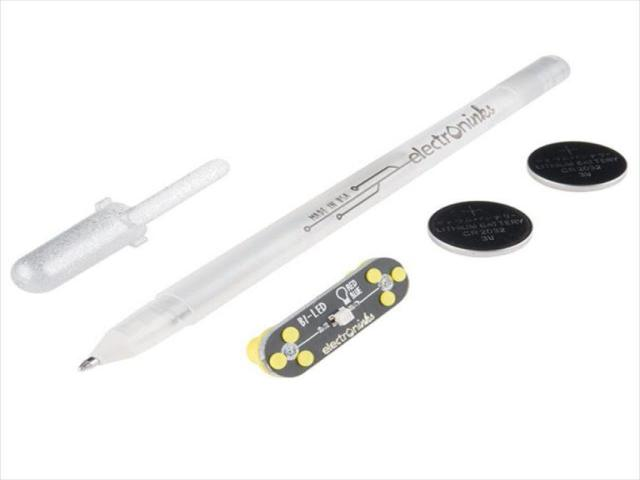PEN: (23, 9, 604, 422)
